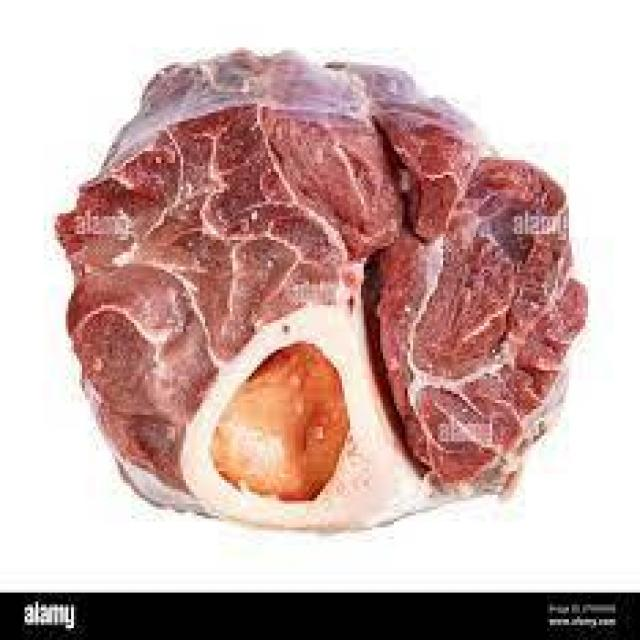Beef: (155, 47, 431, 519)
